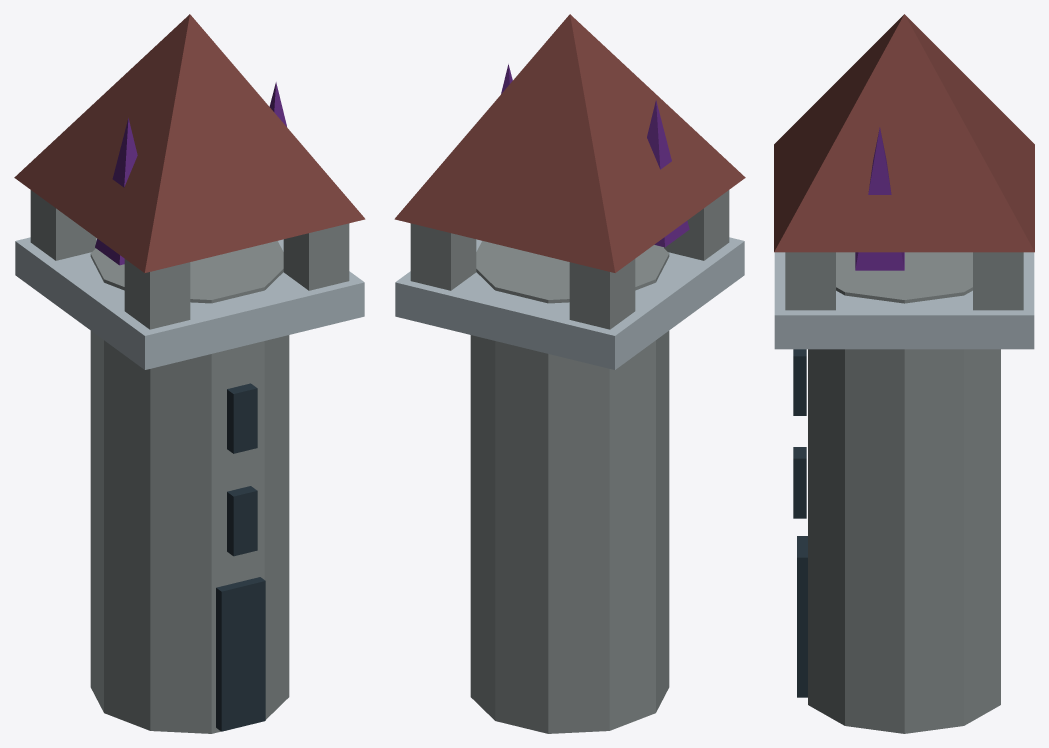
The model's file is tower.obj.
3 views of the same model, side by side, from view 1: azimuth 30°, elevation 25°; view 2: azimuth 150°, elevation 25°; view 3: azimuth 270°, elevation 25° (orthographic).
Visible parts, largest first — view 1: tower; view 2: tower; view 3: tower.
Boxes of the visible parts, x1,y1,x2,y2 form: tower: (14,14,365,733); tower: (394,14,745,733); tower: (774,14,1034,733).
Size of the model in its own units: 1.56 by 4.57 by 1.59.
